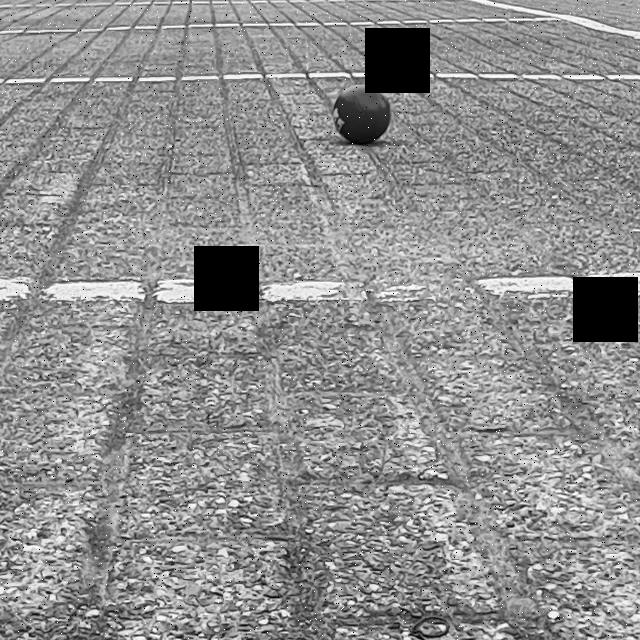ball: (330, 80, 394, 145)
